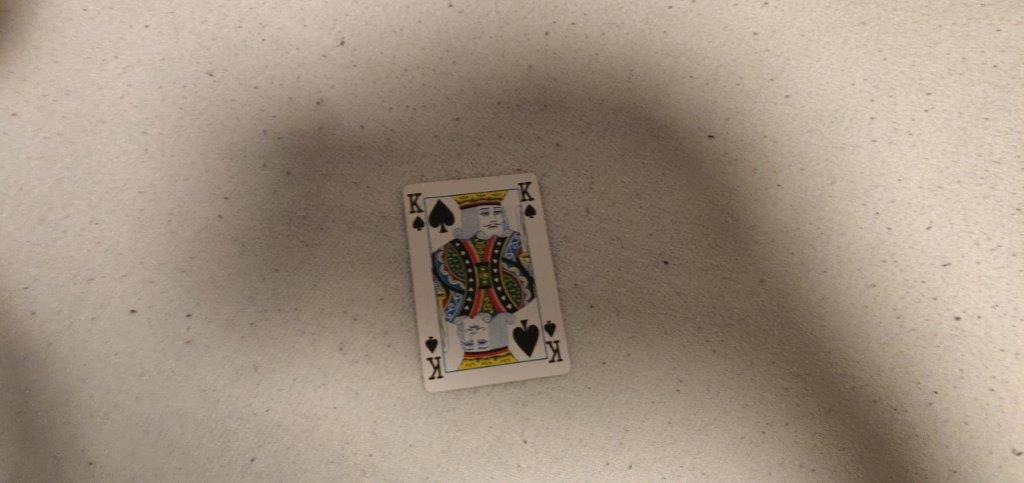KS: (404, 186, 429, 234), (517, 180, 539, 222)
